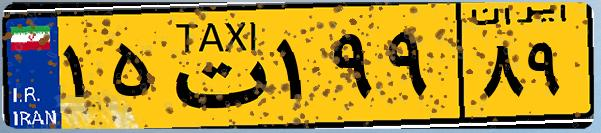1: (270, 28, 330, 110), (57, 26, 110, 100)
5: (110, 28, 158, 98)
8: (475, 38, 525, 113)
9: (385, 28, 445, 110), (330, 28, 385, 110), (525, 38, 570, 115)
ت: (158, 12, 270, 120)
